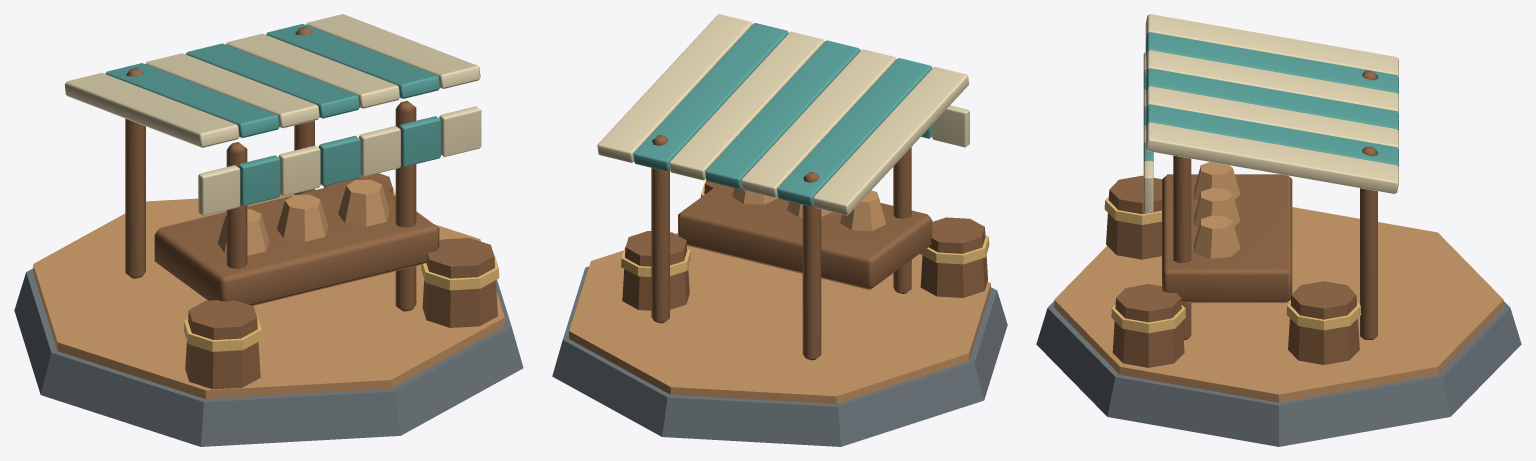
File: economy.glb
3 renders of one model, left to right at view 1: azimuth 30°, elevation 25°; view 2: azimuth 150°, elevation 25°; view 3: azimuth 270°, elevation 25°, orthographic. The views are drawn at different scales.
Parts seen in each view (by area): view 1: Fassung.003, Sockel.003, Markttisch, Markise, Handelsfass, Handelsfass.001, Markise.003, Markise.002, Markise.006, Markise.004, Markise.001, Markise.005 (+16 smaller); view 2: Fassung.003, Sockel.003, Markttisch, Markise, Markise.003, Markise.002, Markise.004, Markise.006, Markise.001, Markise.005, Handelsfass, Pfosten.001 (+8 smaller); view 3: Fassung.003, Sockel.003, Markttisch, Markise.006, Markise.004, Markise, Markise.003, Markise.002, Markise.005, Markise.001, Handelsfass.002, Handelsfass.001 (+10 smaller).
Boxes of the visible parts, x1=… form: Fassung.003: x1=33, y1=194, x2=504, y2=399; Sockel.003: x1=14, y1=268, x2=523, y2=446; Markttisch: x1=154, y1=177, x2=439, y2=305; Markise: x1=65, y1=73, x2=239, y2=147; Handelsfass: x1=185, y1=300, x2=260, y2=389; Handelsfass.001: x1=422, y1=238, x2=497, y2=327; Markise.003: x1=185, y1=43, x2=359, y2=118; Markise.002: x1=145, y1=53, x2=319, y2=128; Markise.006: x1=306, y1=14, x2=480, y2=89; Markise.004: x1=226, y1=33, x2=399, y2=108; Markise.001: x1=105, y1=63, x2=279, y2=138; Markise.005: x1=266, y1=24, x2=440, y2=98; Fassung.003: x1=569, y1=233, x2=990, y2=404; Sockel.003: x1=552, y1=266, x2=1007, y2=446; Markttisch: x1=678, y1=184, x2=932, y2=290; Markise: x1=813, y1=66, x2=969, y2=215; Markise.003: x1=705, y1=40, x2=860, y2=189; Markise.002: x1=741, y1=49, x2=896, y2=197; Markise.004: x1=669, y1=31, x2=824, y2=180; Markise.006: x1=597, y1=14, x2=752, y2=162; Markise.001: x1=777, y1=58, x2=932, y2=206; Markise.005: x1=633, y1=23, x2=788, y2=171; Handelsfass: x1=920, y1=217, x2=987, y2=297; Pfosten.001: x1=802, y1=172, x2=821, y2=360; Fassung.003: x1=1054, y1=207, x2=1503, y2=402; Sockel.003: x1=1036, y1=301, x2=1521, y2=446; Markttisch: x1=1162, y1=174, x2=1292, y2=302; Markise.006: x1=1145, y1=122, x2=1398, y2=193; Markise.004: x1=1145, y1=86, x2=1398, y2=148; Markise: x1=1145, y1=14, x2=1398, y2=76; Markise.003: x1=1145, y1=68, x2=1398, y2=130; Markise.002: x1=1145, y1=50, x2=1398, y2=112; Markise.005: x1=1145, y1=104, x2=1398, y2=166; Markise.001: x1=1145, y1=32, x2=1398, y2=94; Handelsfass.002: x1=1288, y1=281, x2=1359, y2=364; Handelsfass.001: x1=1112, y1=284, x2=1184, y2=367.
Size of the model in its own units: 2.16 by 1.32 by 2.16.
